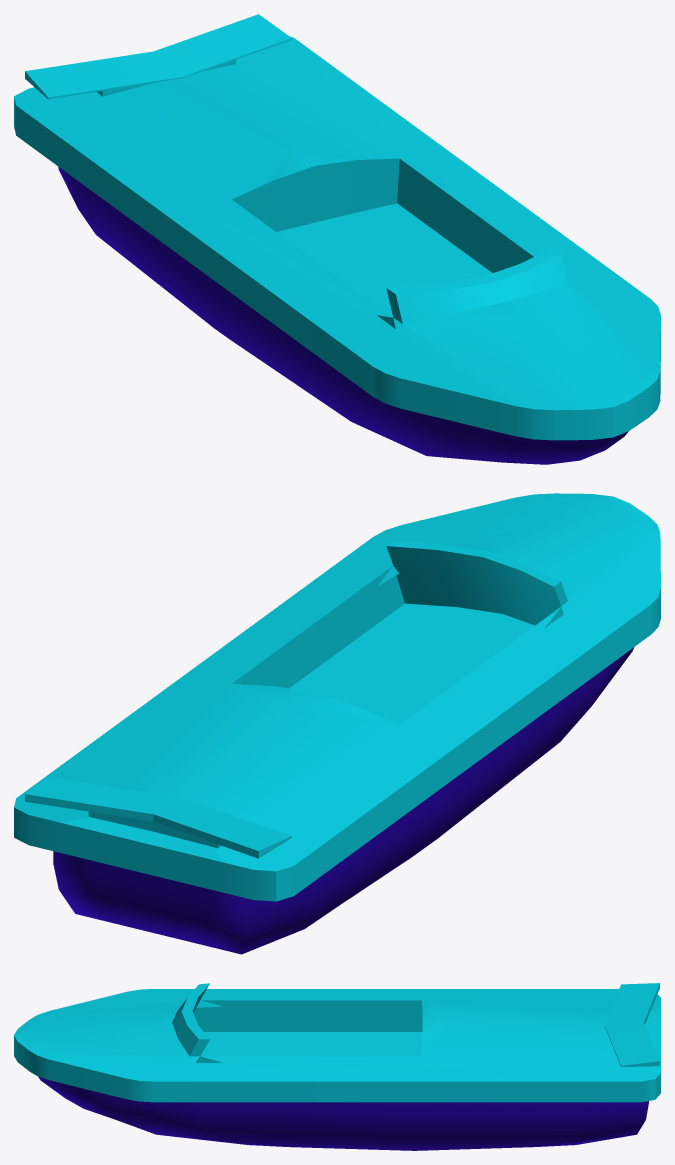
The model's file is ENEMYBOAT.fbx.
The picture shows the model from 3 angles, top to bottom: view 1: azimuth 30°, elevation 25°; view 2: azimuth 150°, elevation 25°; view 3: azimuth 270°, elevation 25°; orthographic projection. The views are drawn at different scales.
Parts seen in each view (by area): view 1: polySurface2, polySurface1; view 2: polySurface2, polySurface1; view 3: polySurface2, polySurface1.
Boxes of the visible parts, x1,y1,x2,y2 form: polySurface2: [14, 14, 660, 440]; polySurface1: [58, 166, 628, 464]; polySurface2: [14, 493, 660, 901]; polySurface1: [53, 647, 634, 954]; polySurface2: [14, 983, 660, 1102]; polySurface1: [38, 1076, 648, 1150].
Bounding box in the file's own units: 3.7 × 2.11 × 10.89.
